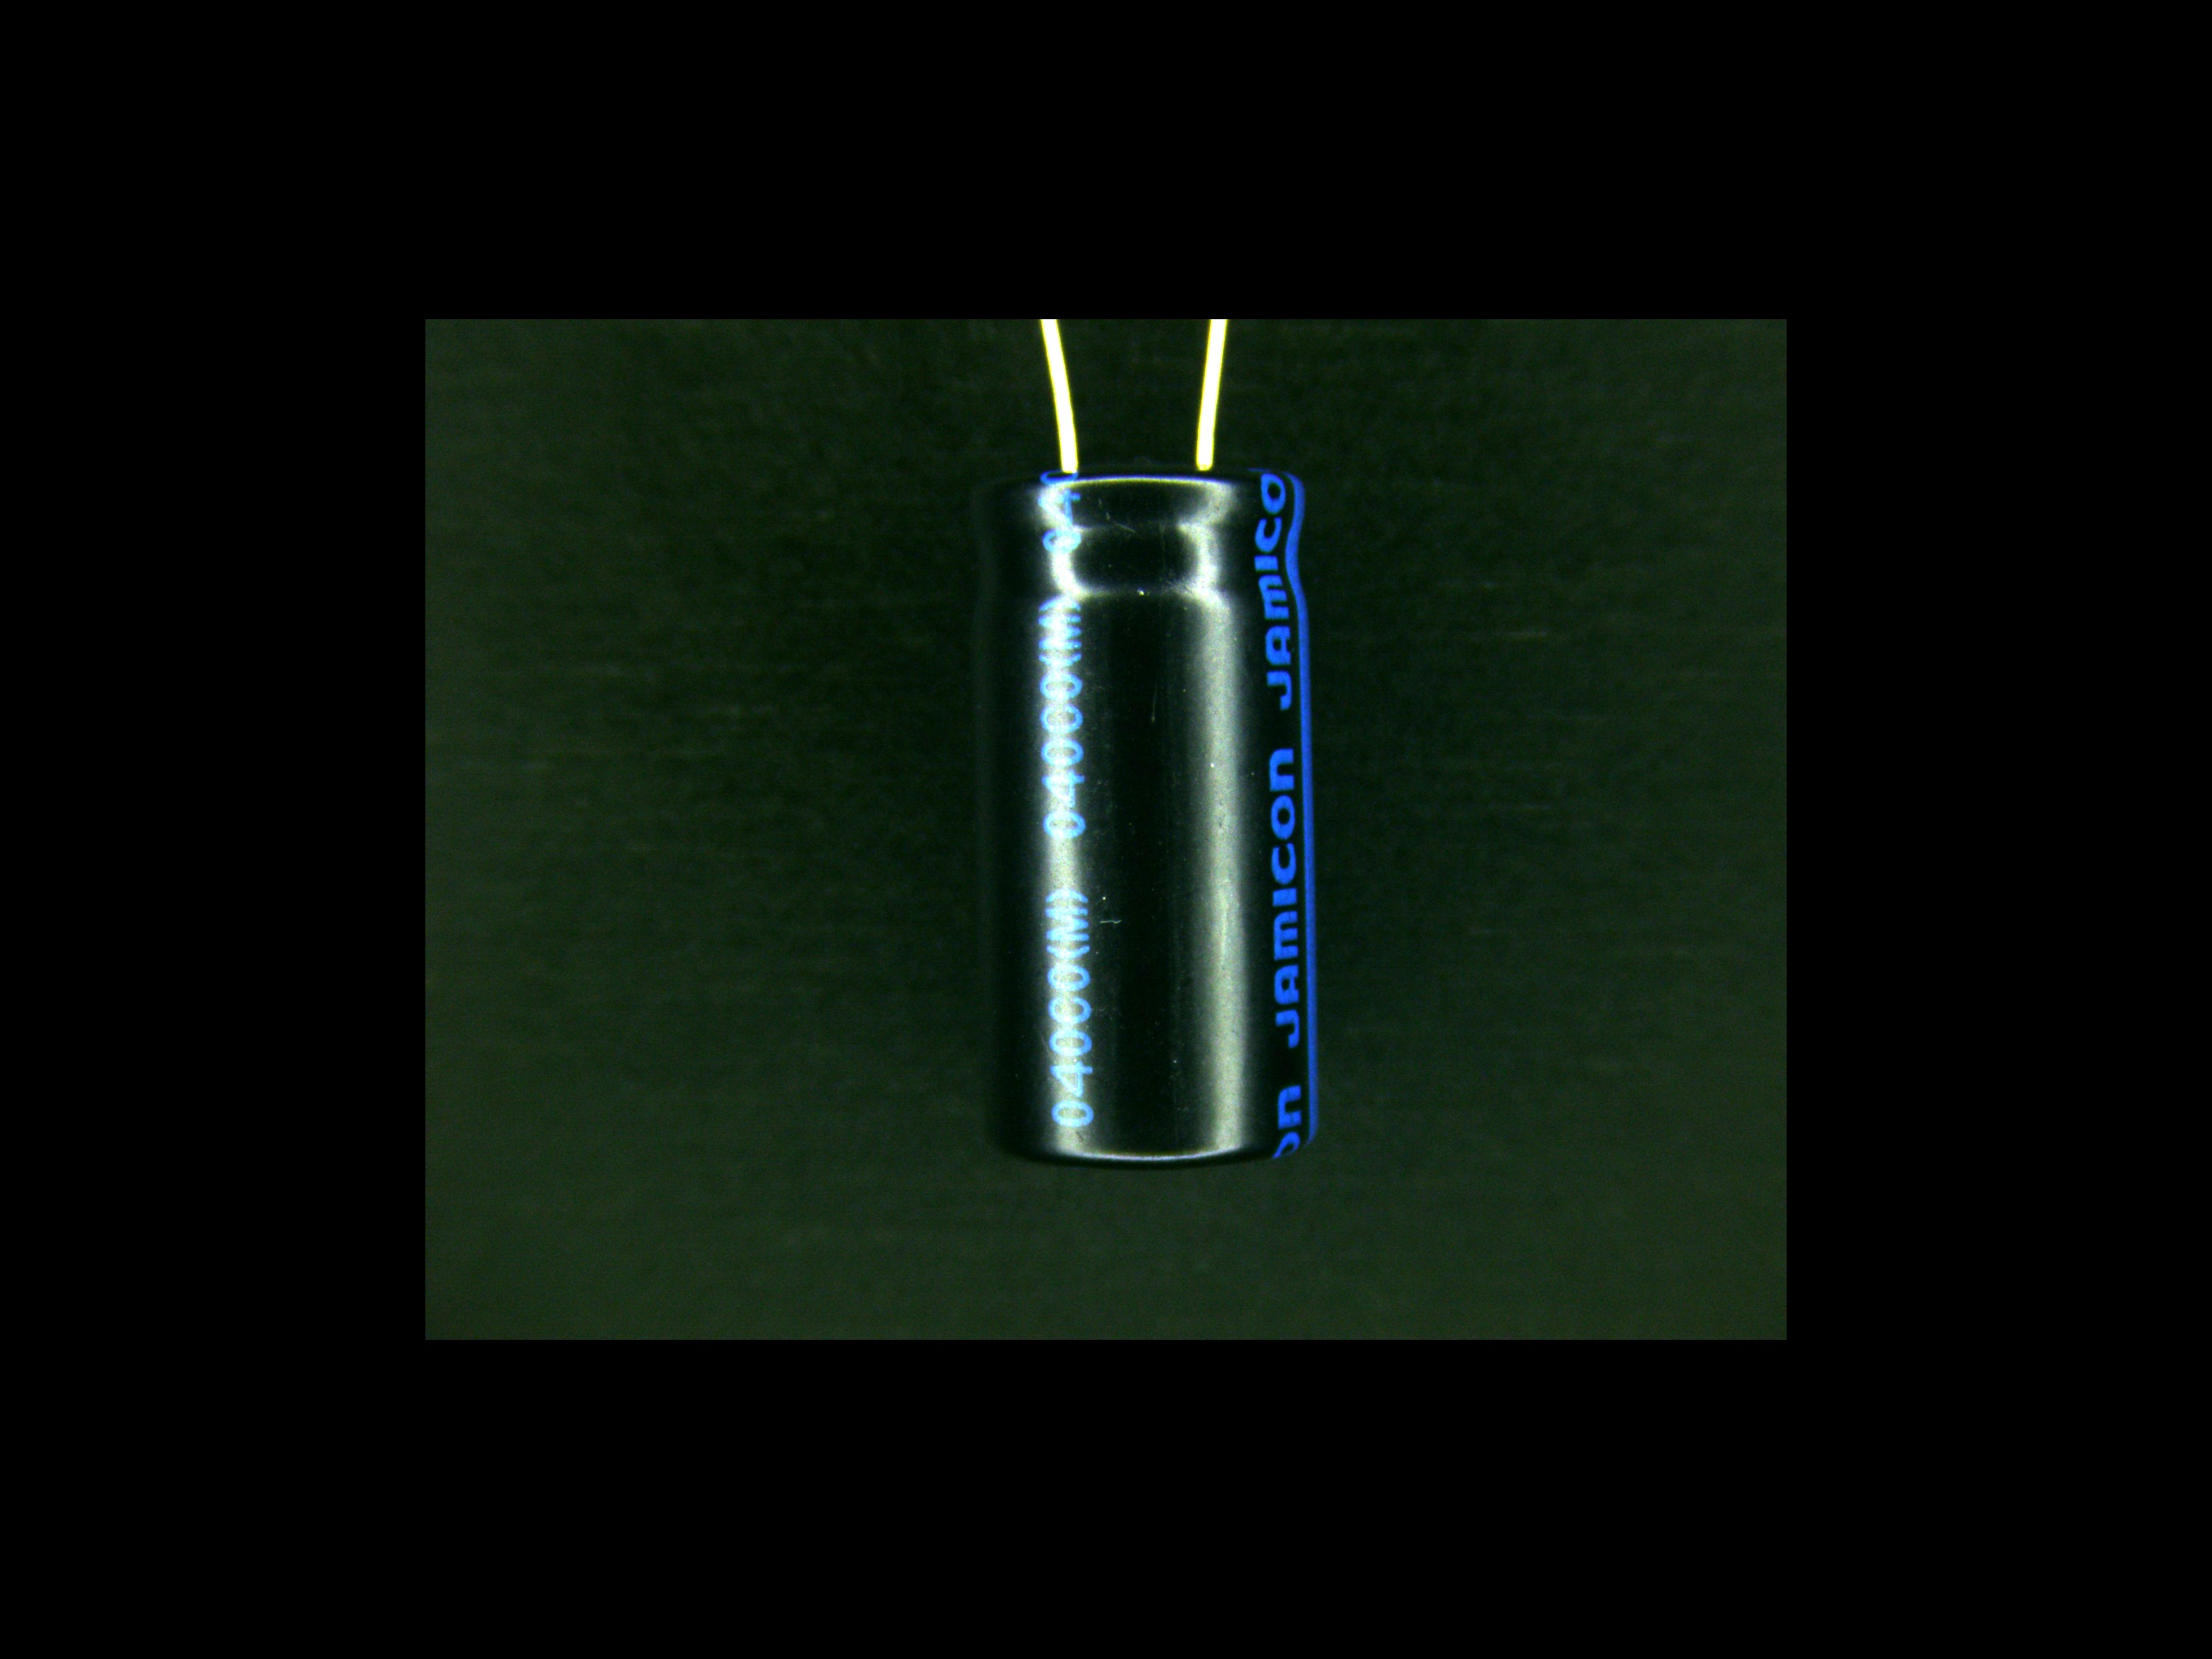c2: (968, 423, 1322, 1171)
